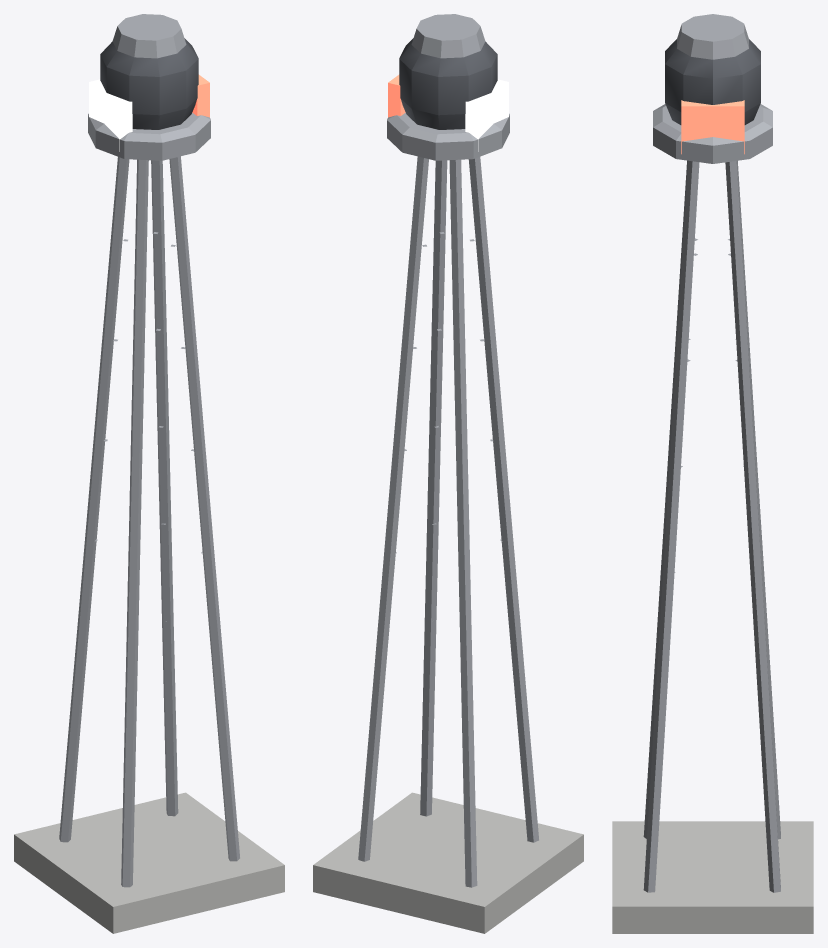
File: abeacon.glb
The picture shows the model from 3 angles, left to right: view 1: azimuth 30°, elevation 25°; view 2: azimuth 150°, elevation 25°; view 3: azimuth 270°, elevation 25°; orthographic projection.
Parts seen in each view (by area): view 1: rotating-beacon-mast, beacon/dark, beacon/navWhite; view 2: rotating-beacon-mast, beacon/dark, beacon/navWhite; view 3: rotating-beacon-mast, beacon/dark, beacon/navRed.
Part boxes in pixels (<box>): rotating-beacon-mast: <box>14,14,284,933</box>; beacon/dark: <box>100,38,198,129</box>; beacon/navWhite: <box>89,79,132,151</box>; rotating-beacon-mast: <box>313,14,583,933</box>; beacon/dark: <box>399,38,497,129</box>; beacon/navWhite: <box>465,79,508,151</box>; rotating-beacon-mast: <box>612,14,813,933</box>; beacon/dark: <box>665,39,760,124</box>; beacon/navRed: <box>681,100,744,154</box>.
Bounding box in the file's own units: 1.6 × 7.56 × 1.6.
